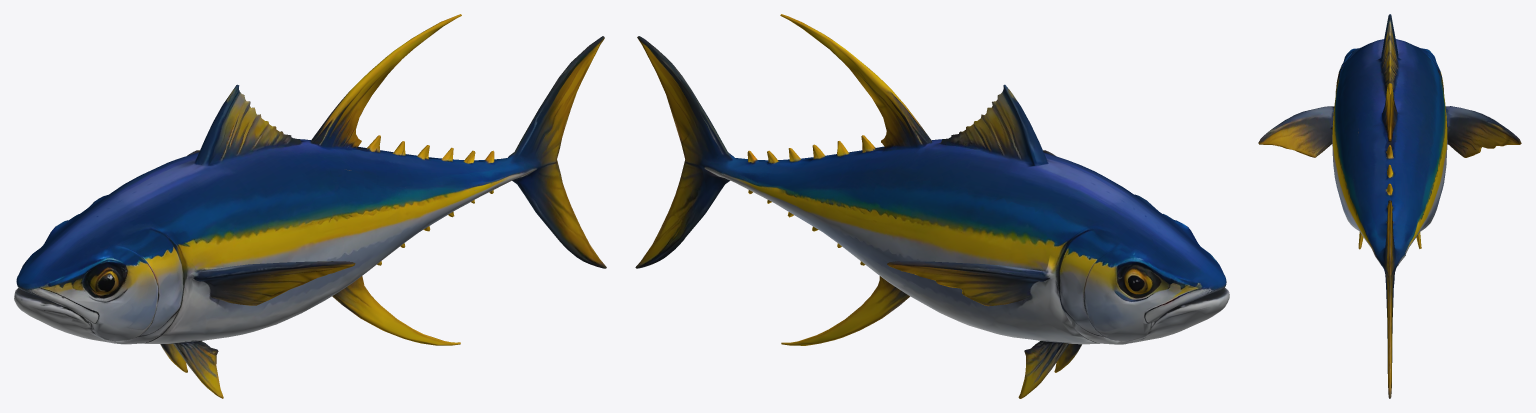
File: fish-zheltoper.glb
3 renders of one model, left to right at view 1: azimuth 30°, elevation 25°; view 2: azimuth 150°, elevation 25°; view 3: azimuth 270°, elevation 25°, orthographic. The views are drawn at different scales.
Visible parts, largest first — view 1: tripo_node_83b5657d-dfe1-42b3-9842-43b384d37bb6; view 2: tripo_node_83b5657d-dfe1-42b3-9842-43b384d37bb6; view 3: tripo_node_83b5657d-dfe1-42b3-9842-43b384d37bb6.
Boxes of the visible parts, box(x1,y1,x2,y2) form: tripo_node_83b5657d-dfe1-42b3-9842-43b384d37bb6: box(14, 14, 606, 398); tripo_node_83b5657d-dfe1-42b3-9842-43b384d37bb6: box(635, 14, 1229, 398); tripo_node_83b5657d-dfe1-42b3-9842-43b384d37bb6: box(1258, 14, 1521, 398).
Bounding box in the file's own units: 1 × 0.5339 × 0.4551.
Materials: 1 (1 with a texture image).
